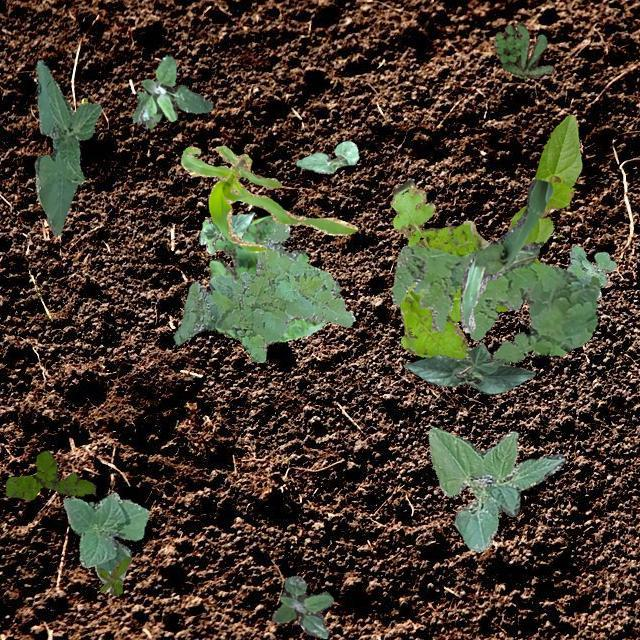crop: (180, 144, 356, 252), (428, 426, 564, 552), (459, 178, 552, 332), (34, 59, 100, 234), (508, 114, 580, 245), (62, 492, 148, 584), (402, 342, 534, 394), (198, 210, 254, 253), (296, 140, 358, 172)
weed: (390, 178, 540, 358), (172, 220, 354, 362), (391, 244, 598, 360), (208, 214, 340, 340), (132, 54, 212, 128), (5, 449, 94, 498), (270, 574, 332, 638), (492, 22, 552, 78), (566, 244, 616, 298), (96, 556, 130, 594)
